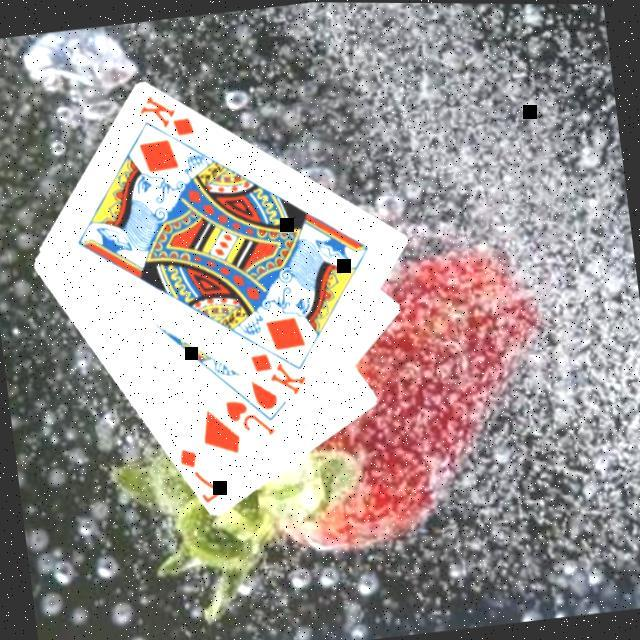7D: (175, 438, 228, 506)
JH: (220, 390, 280, 441)
KD: (246, 342, 312, 401), (134, 85, 199, 142)
